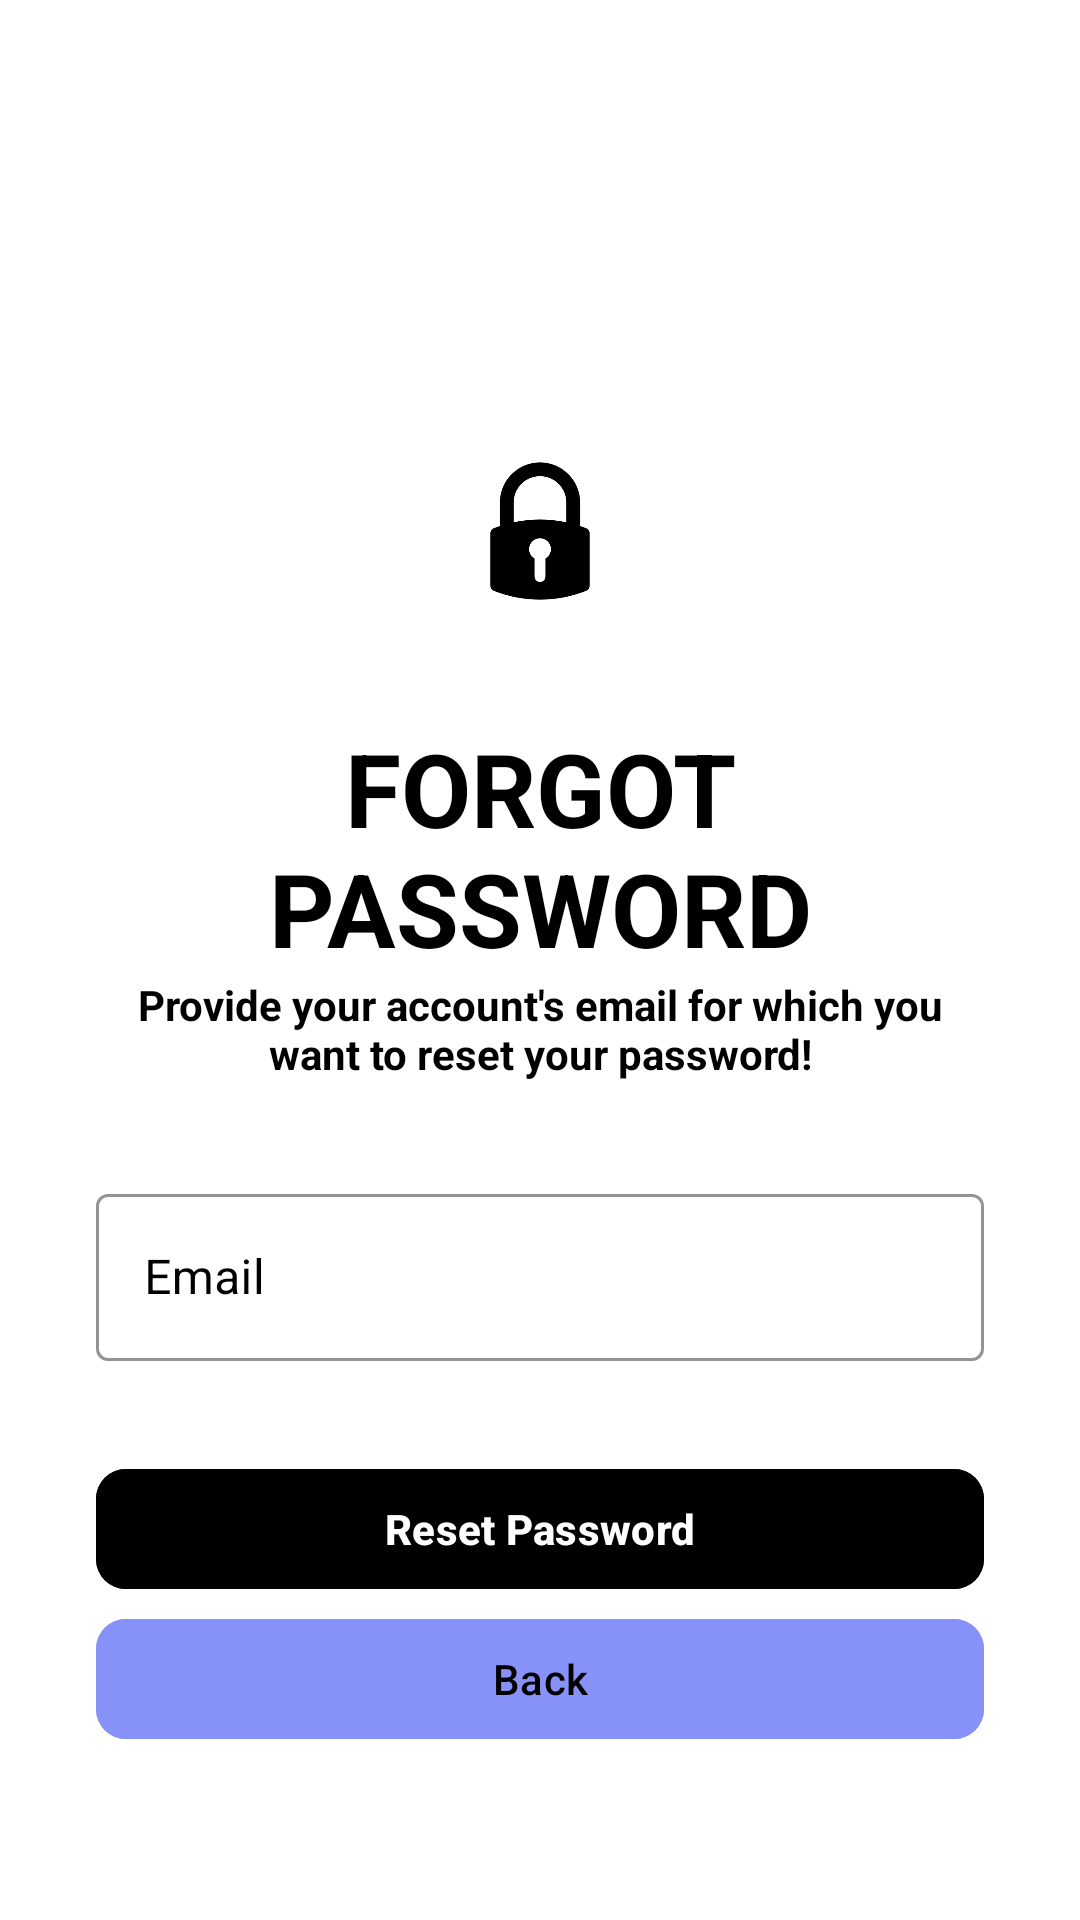

Named icons in this screenshot (1080x1920) and their bounding boxes, (x1, y1, x2, y2):
lock: (490, 462, 590, 600)
